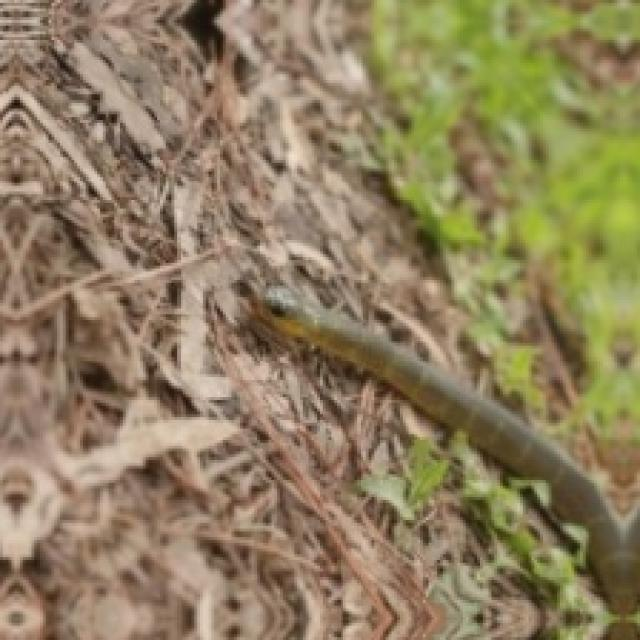gunthers philippine shrub snake: (251, 286, 637, 614)
